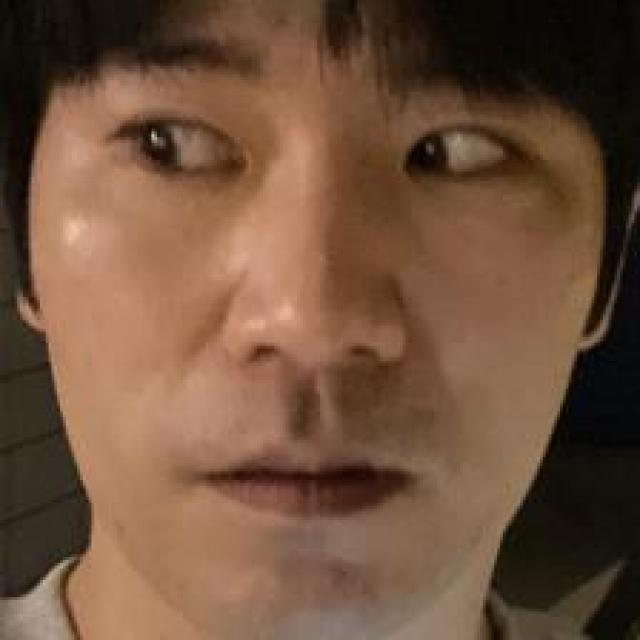fear: (49, 30, 527, 563)
